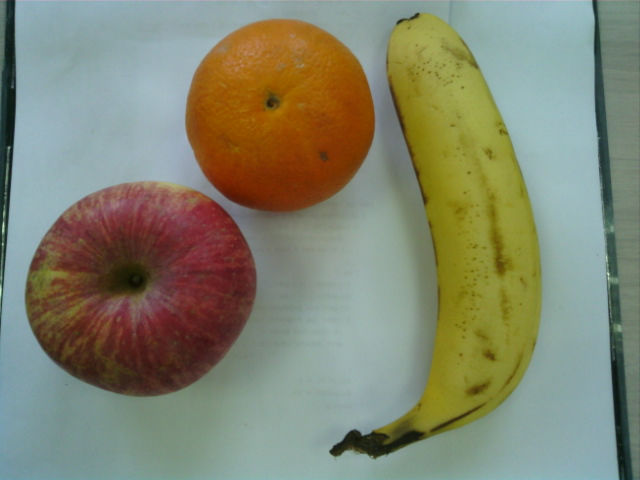normal_apple: (23, 183, 257, 398)
normal_banana: (383, 7, 543, 447)
normal_orange: (181, 16, 378, 214)
